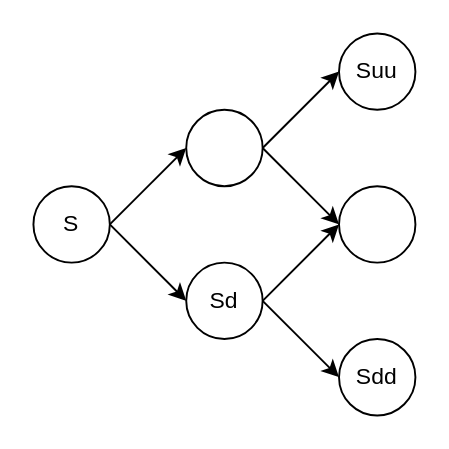
The diagram is 449 pixels wide and 449 high, and some of its shapes have lost their labels. Each missing label, with the box of its shape:
Su: (184, 108, 263, 186)
Sud: (337, 184, 415, 263)
